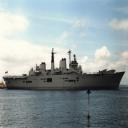Portanaves: (3, 48, 127, 93)
